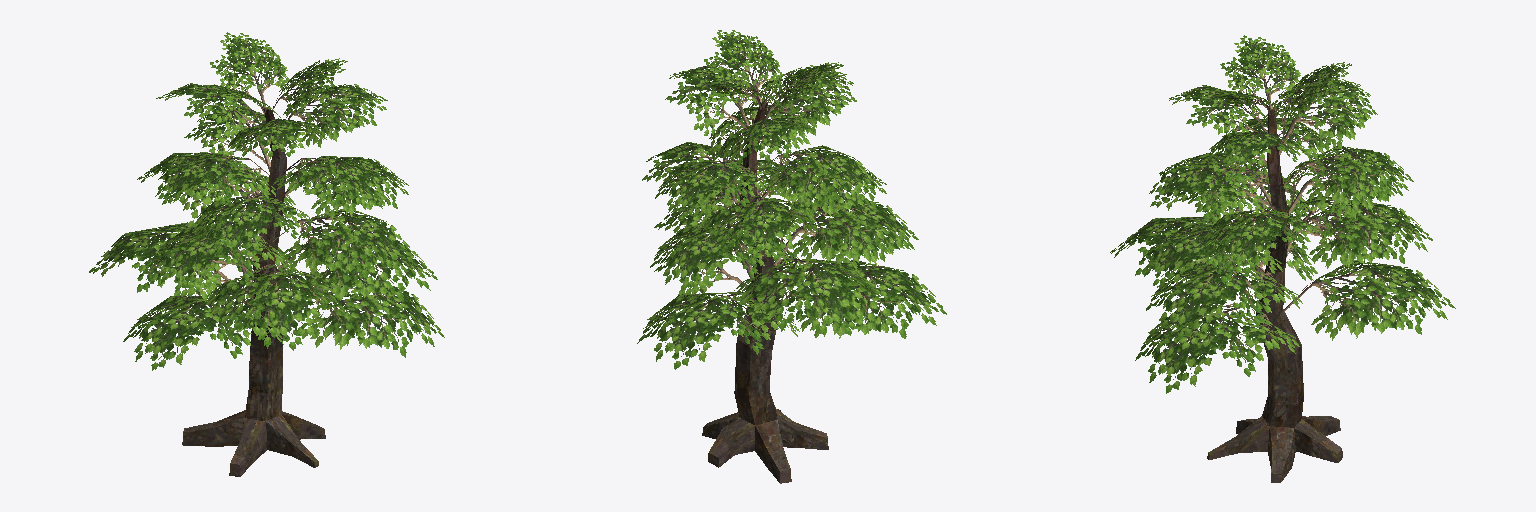
The picture shows the model from 3 angles: view 1: azimuth 30°, elevation 25°; view 2: azimuth 150°, elevation 25°; view 3: azimuth 270°, elevation 25°; orthographic projection.
Parts seen in each view (by area): view 1: CombinedPolyh000, CombinedPolyh001; view 2: CombinedPolyh000, CombinedPolyh001; view 3: CombinedPolyh000, CombinedPolyh001.
Boxes of the visible parts, x1=… form: CombinedPolyh000: x1=89, y1=32, x2=444, y2=370; CombinedPolyh001: x1=182, y1=108, x2=325, y2=476; CombinedPolyh000: x1=637, y1=30, x2=946, y2=369; CombinedPolyh001: x1=702, y1=102, x2=828, y2=483; CombinedPolyh000: x1=1110, y1=35, x2=1455, y2=393; CombinedPolyh001: x1=1207, y1=109, x2=1342, y2=482.
Size of the model in its own units: 5 by 6.02 by 5.1.
2 materials, 2 textured.